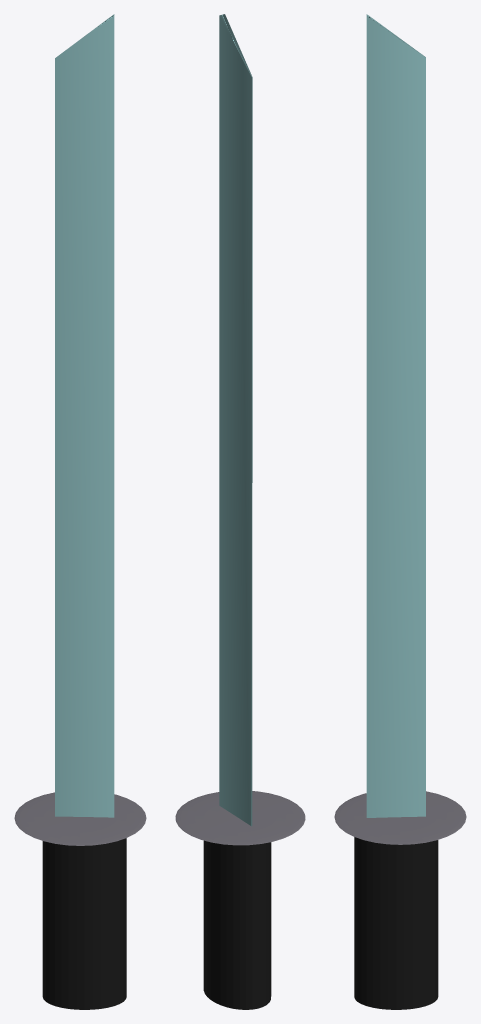
The model's file is sword.glb.
3 renders of one model, left to right at view 1: azimuth 90°, elevation 25°; view 2: azimuth 210°, elevation 25°; view 3: azimuth 270°, elevation 25°, orthographic.
Parts seen in each view (by area): view 1: blade; view 2: blade; view 3: blade.
Part boxes in pixels (box(x1,y1,x2,y2)): blade: box(14, 14, 146, 1009); blade: box(175, 14, 305, 1009); blade: box(334, 14, 466, 1009).
Size of the model in its own units: 7.26 by 59.48 by 7.26.
